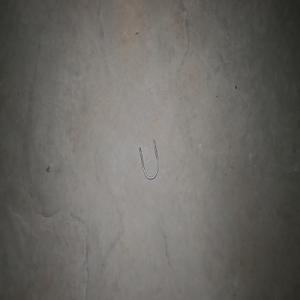ClampPart: (138, 138, 158, 180)
